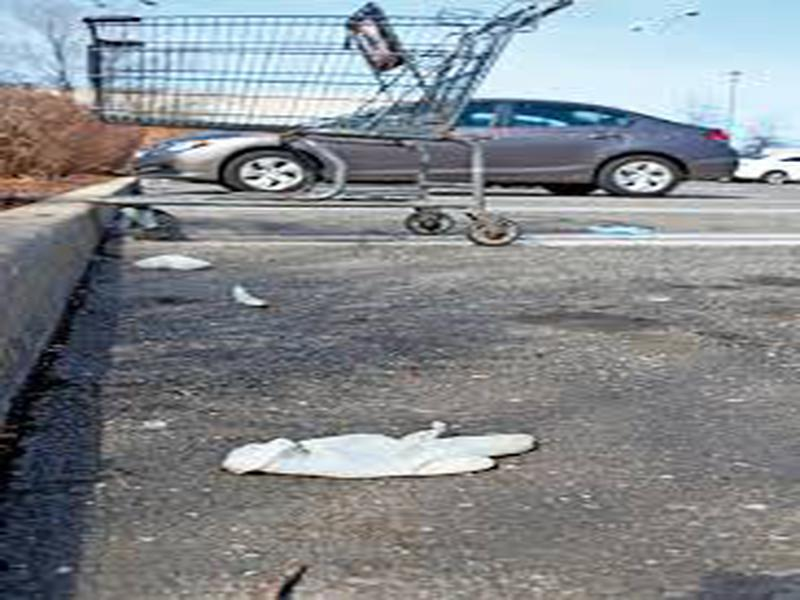gloves: (213, 411, 540, 487)
